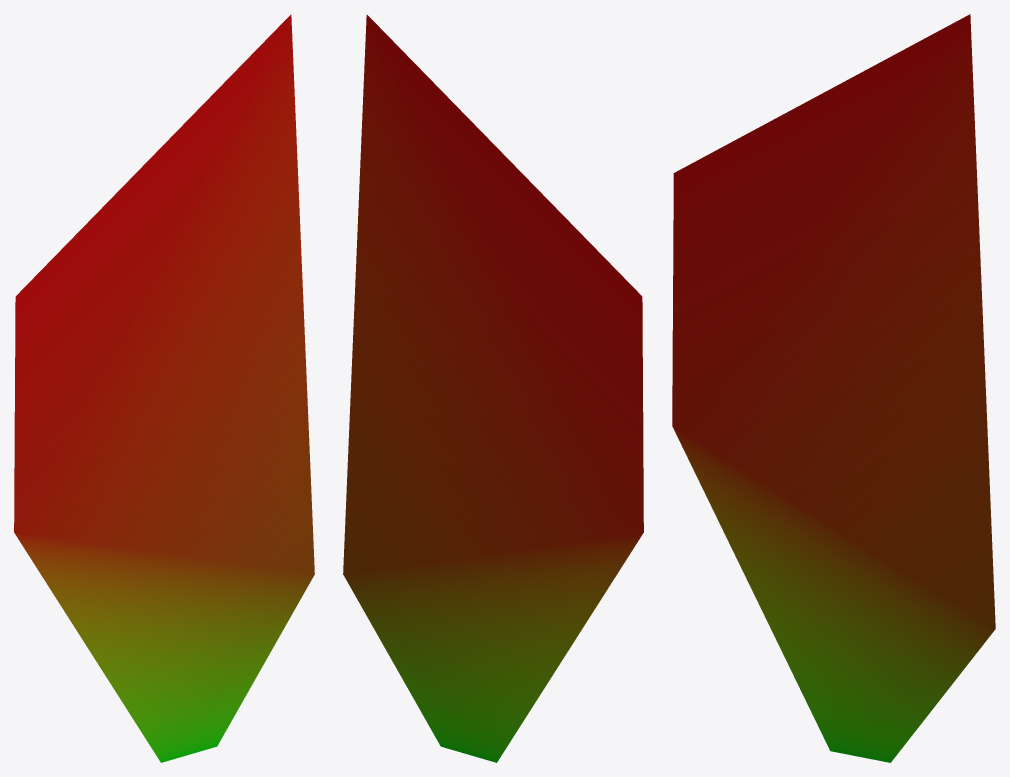
The model's file is Mustard_LOD3_Var4_tbeqdbzr.fbx.
The picture shows the model from 3 angles, left to right: view 1: azimuth 30°, elevation 25°; view 2: azimuth 150°, elevation 25°; view 3: azimuth 330°, elevation 25°; orthographic projection. The views are drawn at different scales.
Visible parts, largest first — view 1: _f890_Var4_LOD3; view 2: _f890_Var4_LOD3; view 3: _f890_Var4_LOD3.
Boxes of the visible parts, box(x1,y1,x2,y2) form: _f890_Var4_LOD3: box(14, 14, 314, 762); _f890_Var4_LOD3: box(343, 14, 643, 762); _f890_Var4_LOD3: box(672, 14, 995, 762).
Size of the model in its own units: 13.28 by 30.25 by 3.1e-06.
